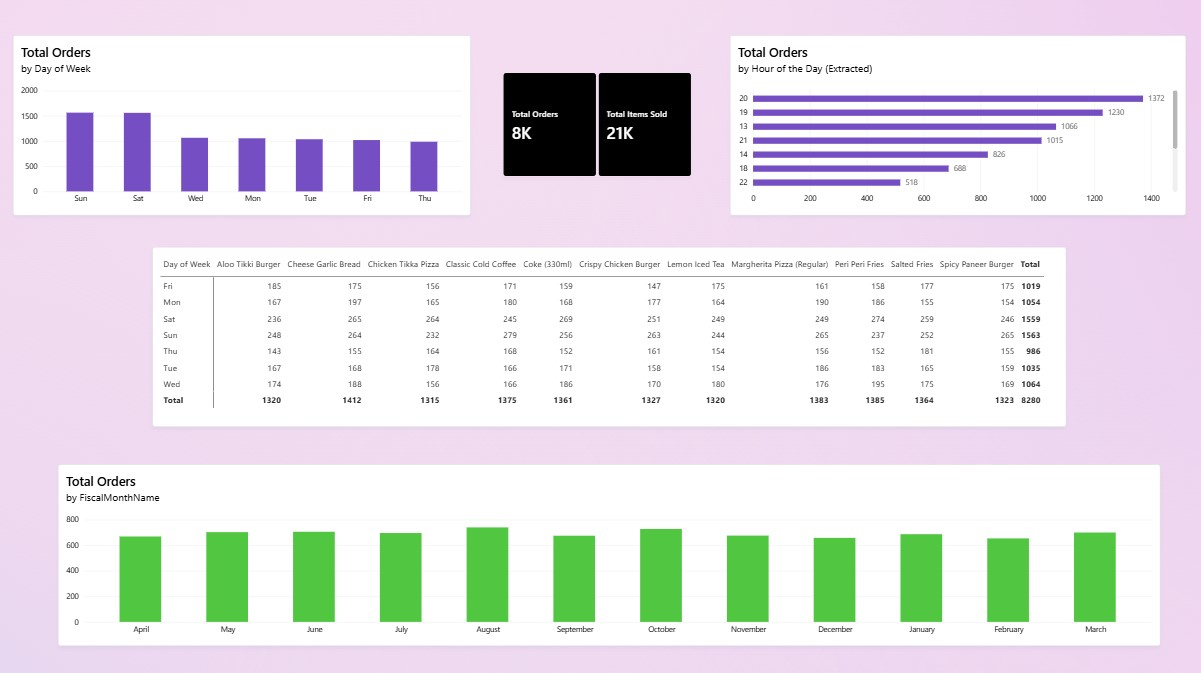

This screenshot's page, from the dashboard's own definition file:
{"tool":"powerbi","page":{"name":"Order Trends","canvas":[1920,1080],"ordinal":1},"visuals":[{"type":"clusteredColumnChart","fields":{"Category":["DimDate.FiscalYear","DimDate.FiscalMonthName"],"Y":["Key Measures Table.Total Orders"]},"box":[66.8,660.9,1329,357.9],"z":0},{"type":"columnChart","fields":{"Category":["DimDate.Day of Week"],"Y":["Key Measures Table.Total Orders"]},"box":[66.8,369.8,1329,236.2],"z":1000},{"type":"pivotTable","fields":{"Columns":["Consolidated Sales.Item_Name"],"Rows":["DimDate.FiscalYear","DimDate.FiscalMonthName","DimDate.Day of Week"],"Values":["Key Measures Table.Total Orders"]},"box":[424.7,33.4,1479.3,288.7],"z":2000},{"type":"clusteredBarChart","fields":{"Category":["Consolidated Sales.Hour of the Day (Extracted)"],"Y":["Key Measures Table.Total Orders"]},"box":[1438.7,369.8,465.3,649],"z":3000},{"type":"cardVisual","fields":{"Data":["Key Measures Table.Total Orders","Key Measures Table.Total Items Sold"]},"box":[66.8,88.3,336.4,181.3],"z":4000}]}

Visuals, with their boxes in screenshot pixels (x1, y1, x2, y2), scaled from the page's 1920x1080 canvas onto the 1201x673 screenshot:
clusteredColumnChart - DimDate.FiscalYear x DimDate.FiscalMonthName: box(42, 412, 873, 635)
columnChart - DimDate.Day of Week x Key Measures Table.Total Orders: box(42, 230, 873, 378)
pivotTable - Consolidated Sales.Item_Name x DimDate.FiscalYear: box(266, 21, 1191, 201)
clusteredBarChart - Consolidated Sales.Hour of the Day (Extracted) x Key Measures Table.Total Orders: box(900, 230, 1191, 635)
cardVisual - Key Measures Table.Total Orders x Key Measures Table.Total Items Sold: box(42, 55, 252, 168)
